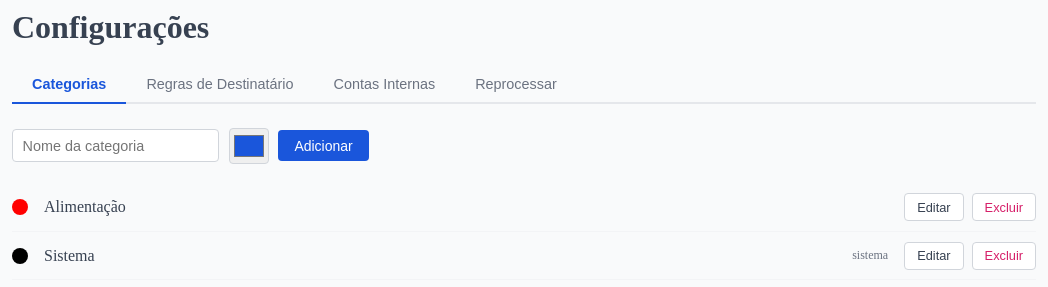
Test: SettingsPage › switches to recipient rules tab
Click the tab "Regras de Destinatário" at {"x": 220, "y": 85}, box [126, 66, 314, 104]
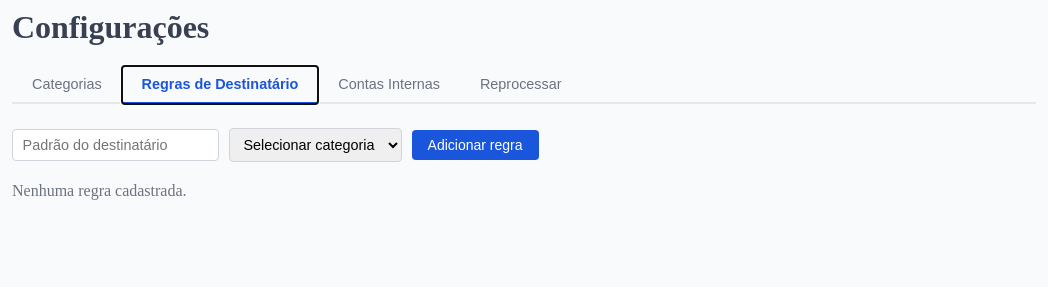
Check: the field labelled "Padrão do destinatário" is shown, box [12, 129, 219, 161]
